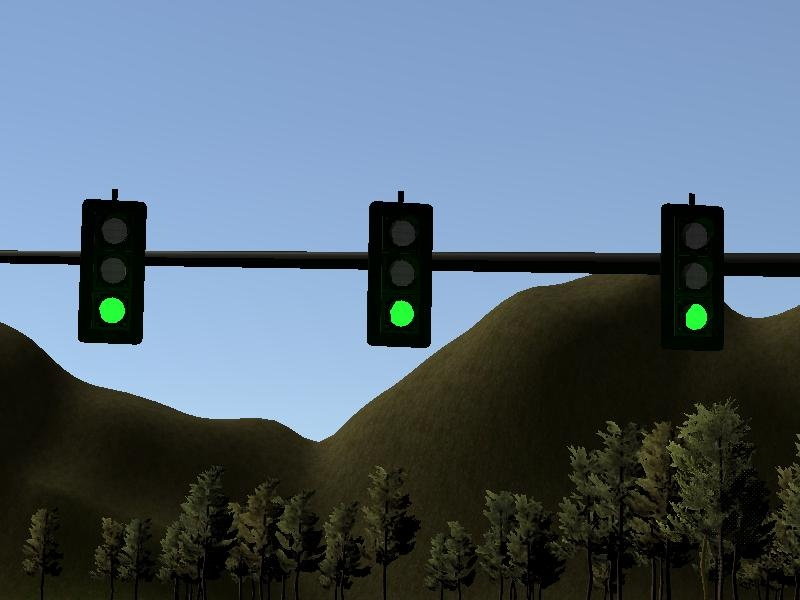GREEN: (653, 195, 735, 361), (360, 189, 441, 357), (73, 190, 150, 347)
